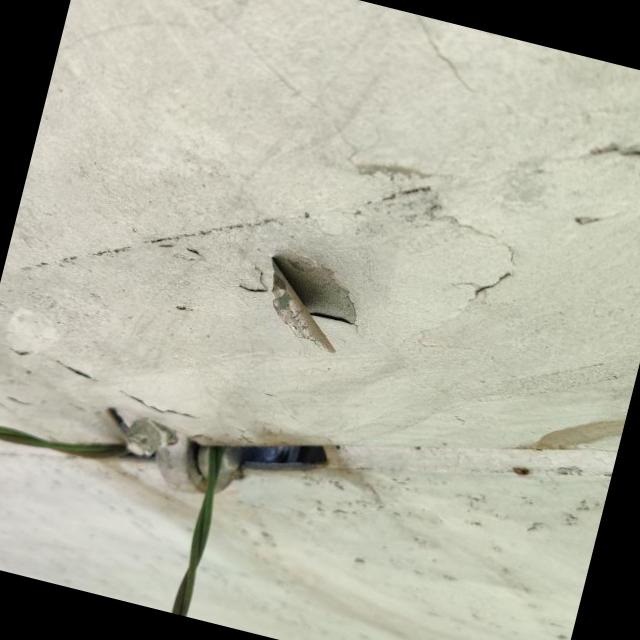Paint-off: (271, 252, 355, 352)
